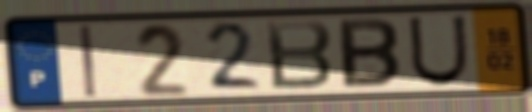2: (132, 21, 195, 98), (203, 18, 263, 96)
B: (262, 17, 336, 92), (336, 17, 403, 91)
I: (76, 23, 100, 100)
U: (405, 13, 471, 89)
